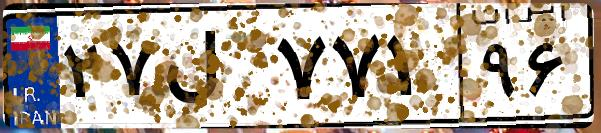1: (385, 28, 445, 110)
2: (57, 26, 110, 100)
6: (525, 38, 570, 115)
7: (270, 28, 330, 110), (330, 28, 385, 110), (110, 28, 158, 98)
9: (475, 38, 525, 113)
ل: (158, 20, 270, 120)
